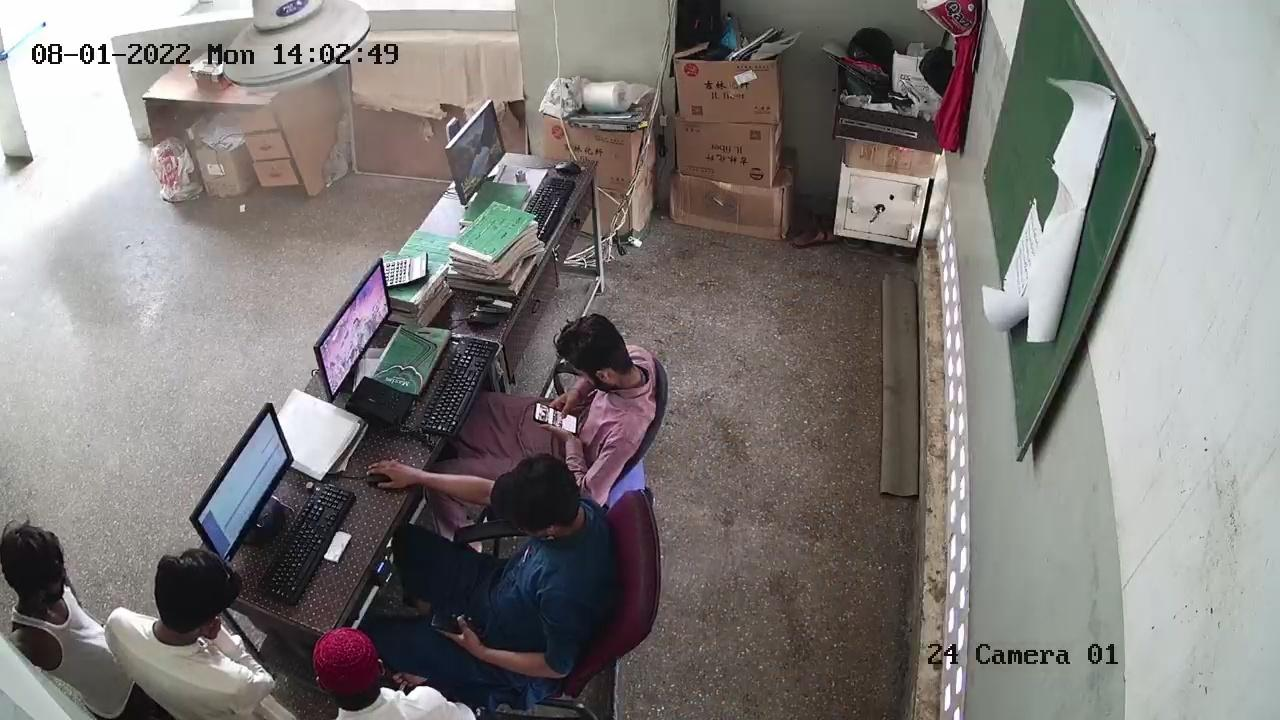person: (414, 458, 614, 667), (464, 330, 664, 495), (0, 522, 135, 717), (116, 565, 275, 718), (309, 632, 464, 720)
